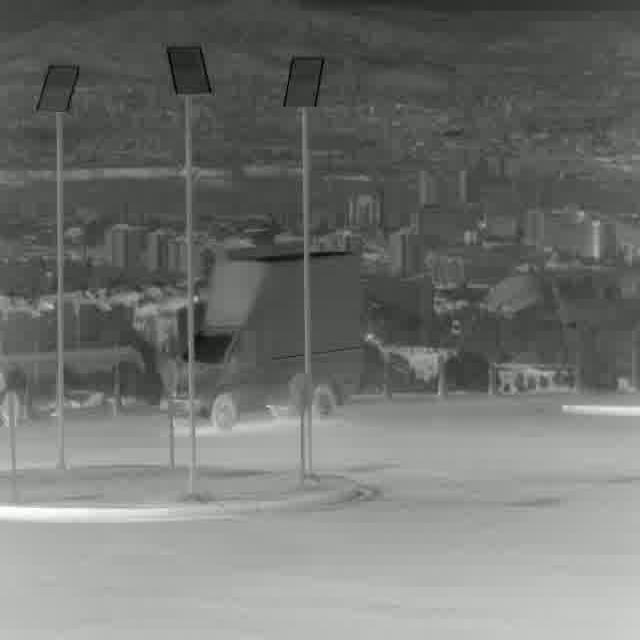Car: (173, 252, 359, 421)
